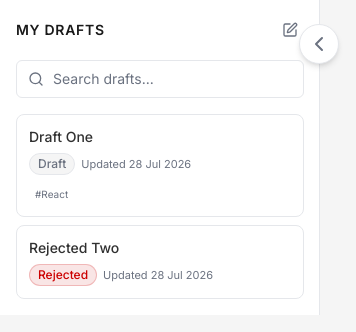
DraftManagerSidebar › renders real editable drafts and filters correctly
Expected: the heading "Draft One" is shown, [29,128,93,145]
Expected: the heading "Rejected Two" is shown, [29,239,119,256]
Local search functionality
Type "reject" into the field with placeholder "Search drafts...". click: (160, 79)
box: [16,60,304,98]
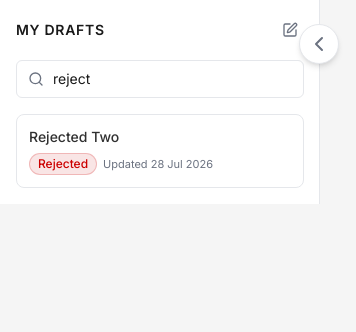
Expected: the heading "Rejected Two" is shown, [29,128,119,145]
Expected: the link "Draft One" is gone
